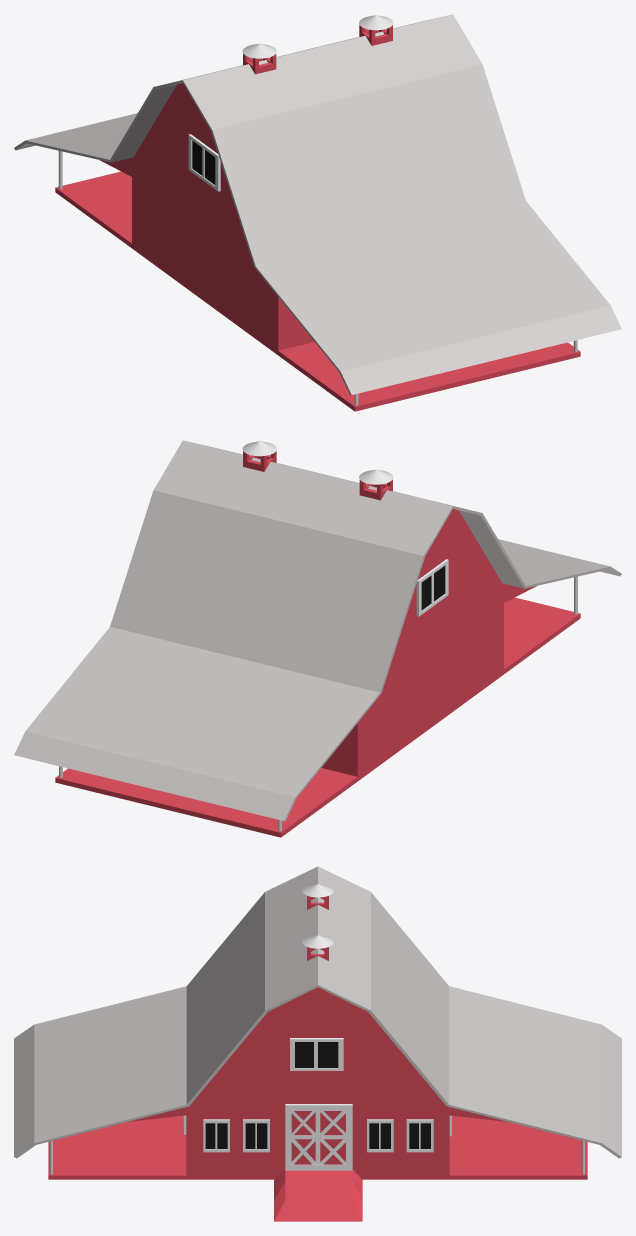
File: barn.fbx
3 renders of one model, top to bottom at view 1: azimuth 30°, elevation 25°; view 2: azimuth 150°, elevation 25°; view 3: azimuth 270°, elevation 25°, orthographic. The views are drawn at different scales.
Visible parts, largest first — view 1: roof, barn, Cube.013; view 2: roof, barn, Cube.013; view 3: roof, barn, gate, Cube.006, Cube.005, Cube.001, Cube.003, Cube.004.
Boxes of the visible parts, x1,y1,x2,y2 form: roof: [14, 14, 621, 395]; barn: [55, 83, 580, 411]; Cube.013: [188, 134, 220, 191]; roof: [14, 440, 621, 821]; barn: [55, 509, 580, 837]; Cube.013: [416, 559, 448, 616]; roof: [14, 866, 621, 1158]; barn: [48, 987, 587, 1221]; gate: [285, 1104, 352, 1170]; Cube.006: [290, 1038, 343, 1070]; Cube.005: [406, 1119, 433, 1152]; Cube.001: [203, 1119, 229, 1152]; Cube.003: [243, 1119, 269, 1152]; Cube.004: [367, 1119, 393, 1152].
Size of the model in its own units: 1184 by 806 by 2014.
